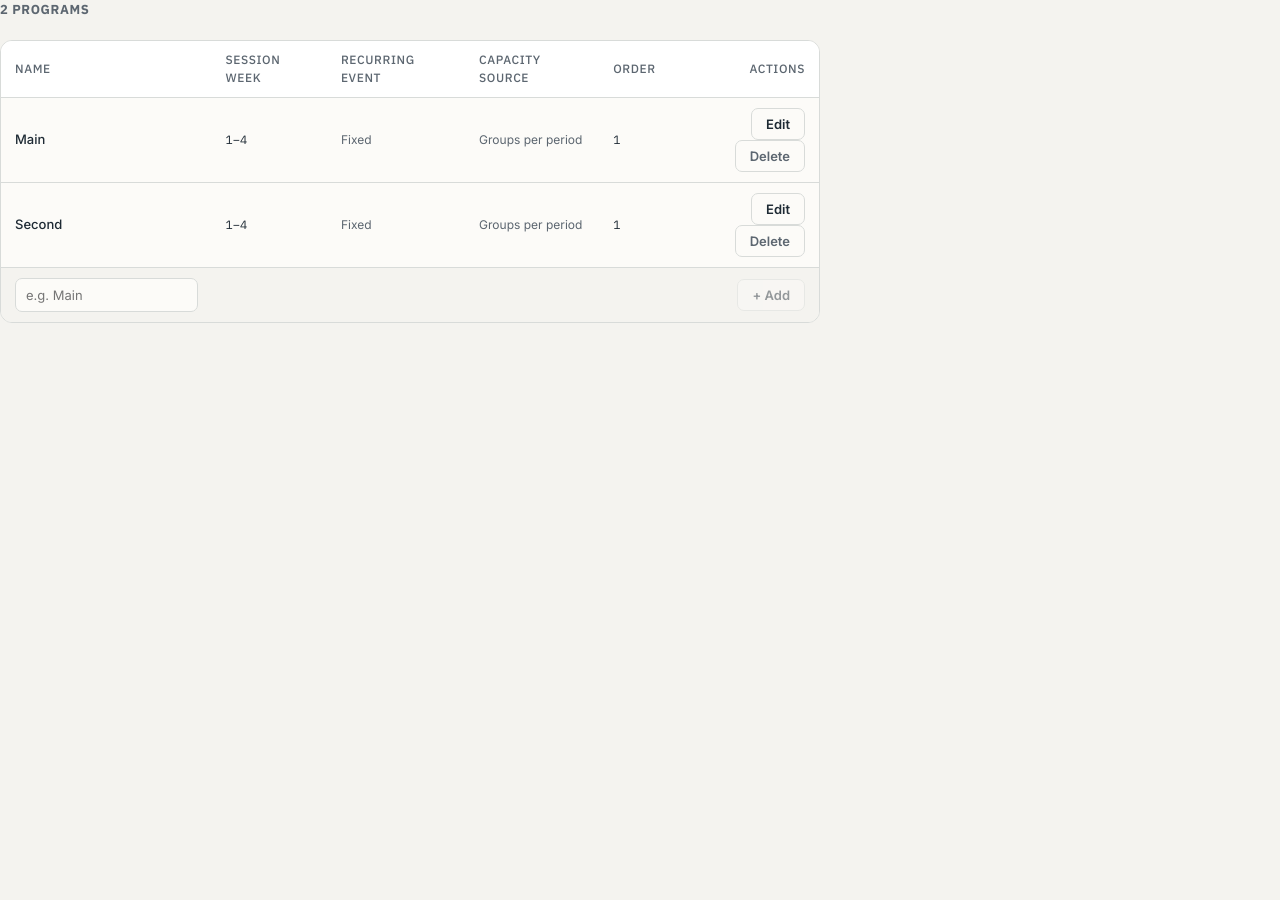
CohortsScreen › shows a specific message (not the generic connectivity one) when deleting fails due to a foreign-key reference
Check: the text "Main" is shown, box [1,97,212,182]
Click the button "Delete" in the row of "Main" at (770, 156), box [735,140,805,172]
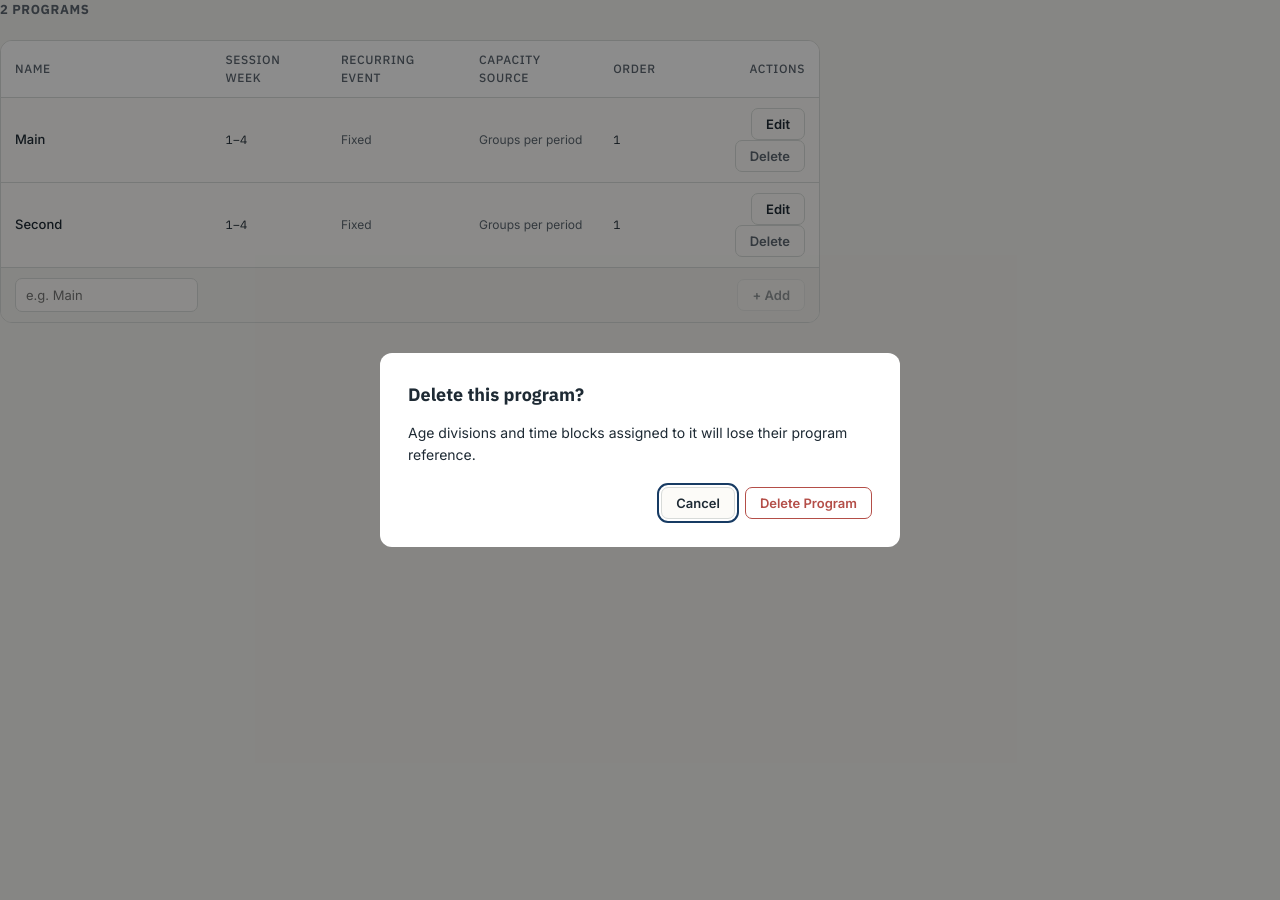
Check: the text "Delete this program?" is shown, box [408,383,584,406]
Click the button "Delete Program" at (808, 503), box [745,487,872,519]
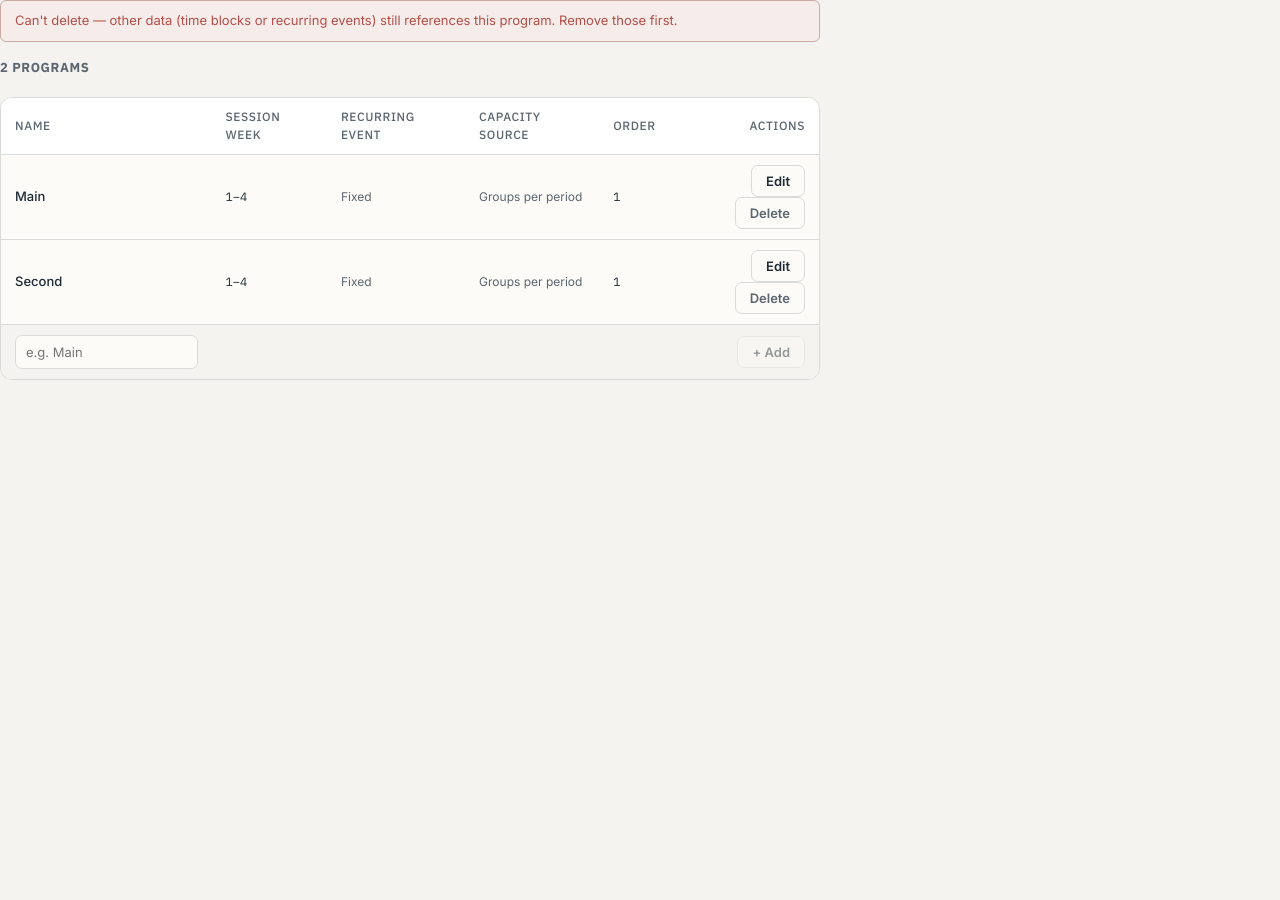
Check: the text "Can't delete — other data (time blocks or recurring events) still references this program. Remove those first." is shown, box [15,12,678,28]
